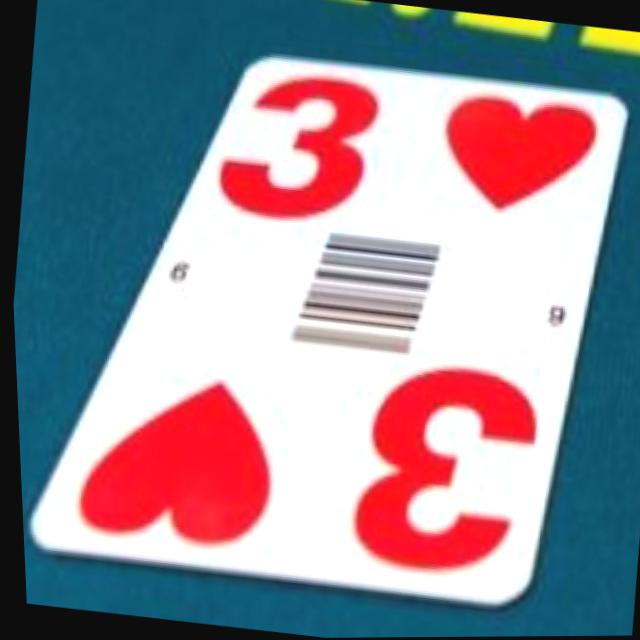Card-3: (25, 54, 626, 605)
